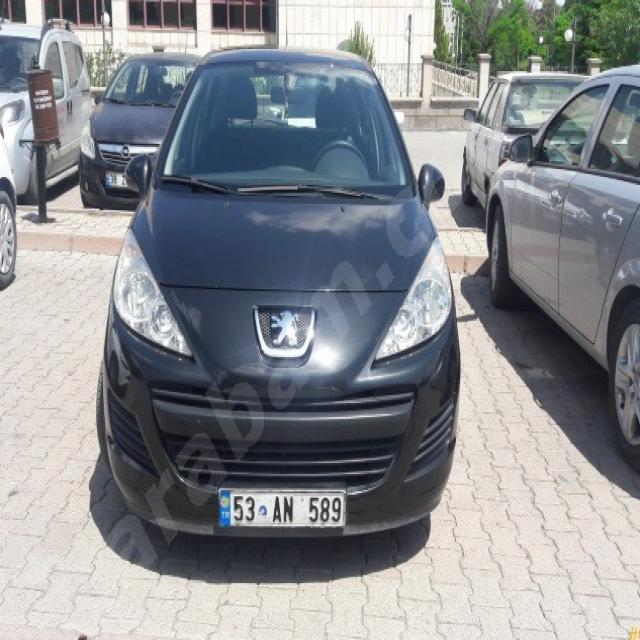license_plate: (217, 488, 346, 528)
